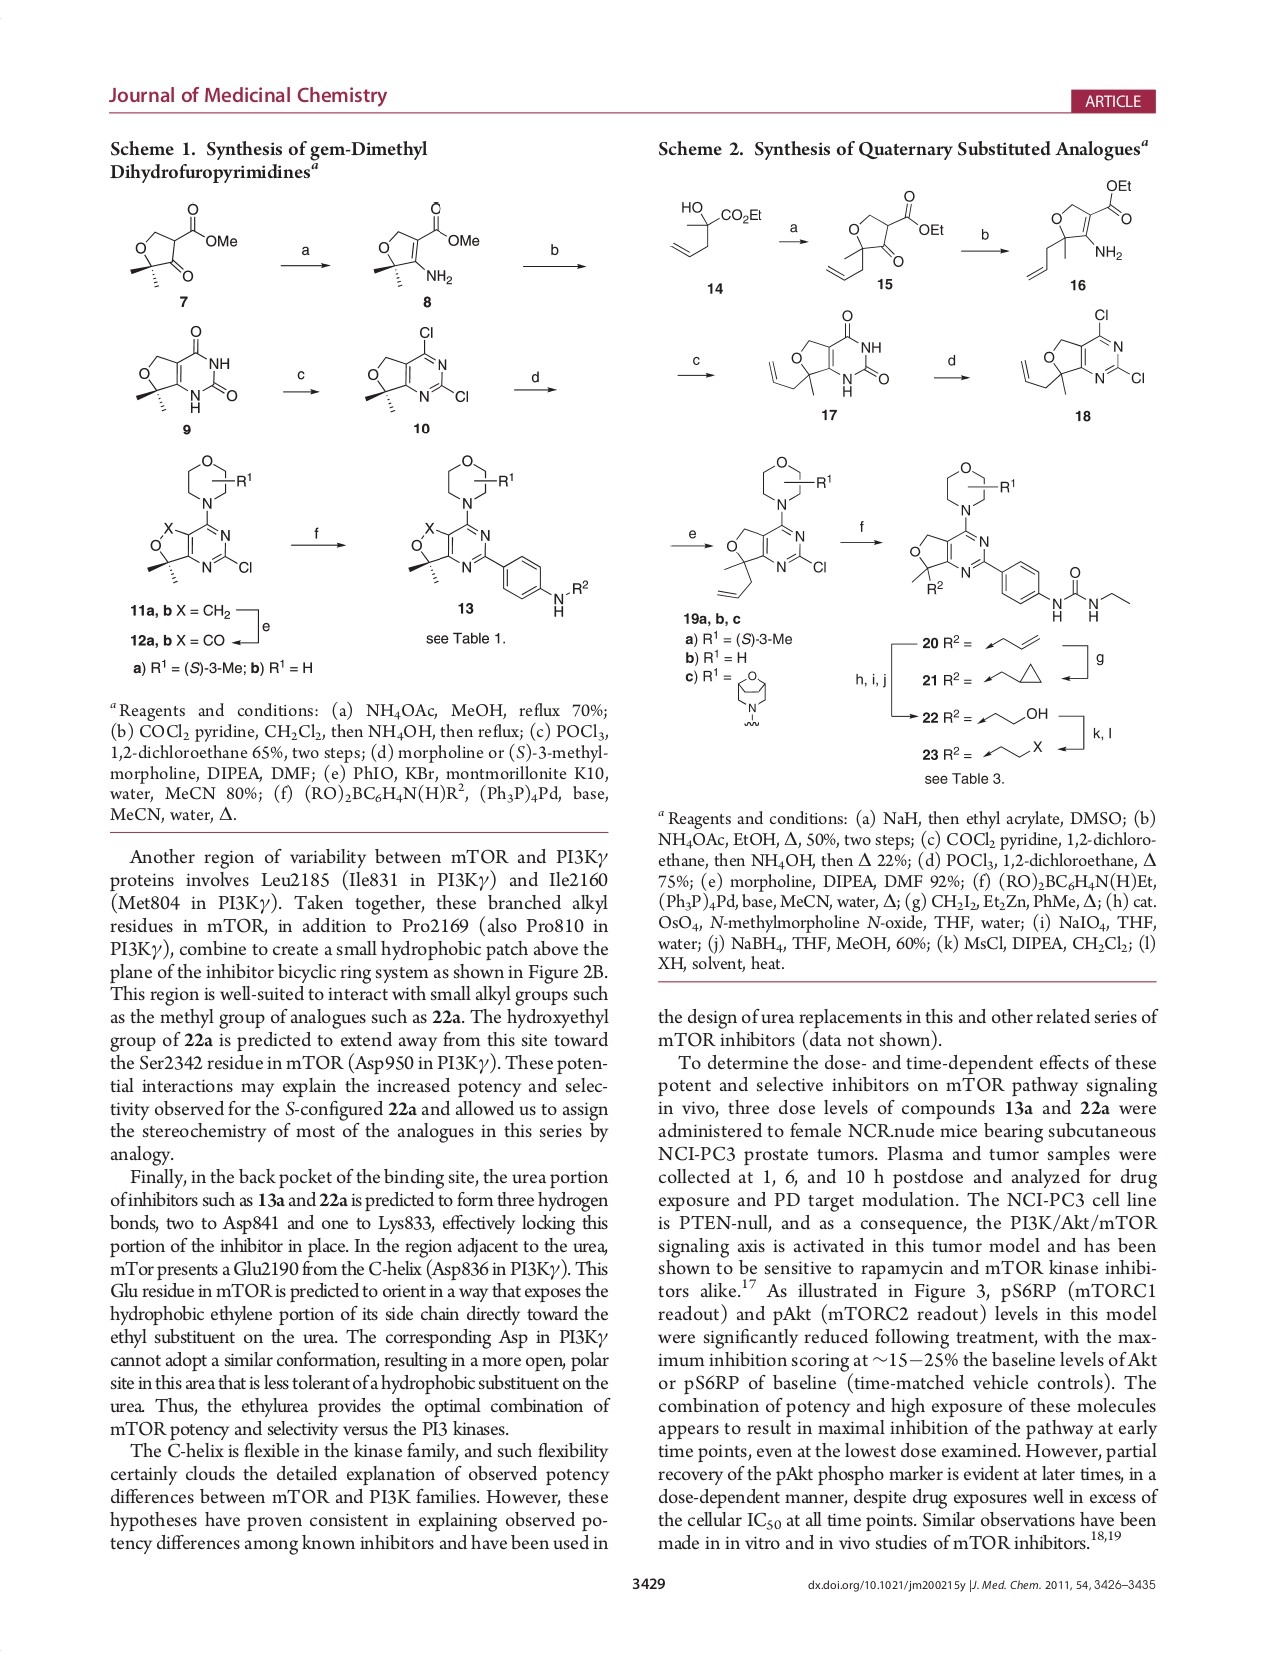exist_molecular: (906, 457, 1130, 624), (406, 452, 593, 618), (715, 452, 835, 601), (141, 448, 257, 586), (821, 189, 949, 285), (765, 307, 894, 400), (1019, 306, 1149, 398), (1023, 176, 1136, 281), (122, 197, 239, 293), (368, 197, 481, 291), (129, 323, 242, 416), (360, 323, 469, 418), (665, 190, 766, 261), (734, 668, 771, 729), (977, 735, 1044, 763), (977, 704, 1051, 729), (983, 662, 1043, 690), (981, 630, 1043, 650)
